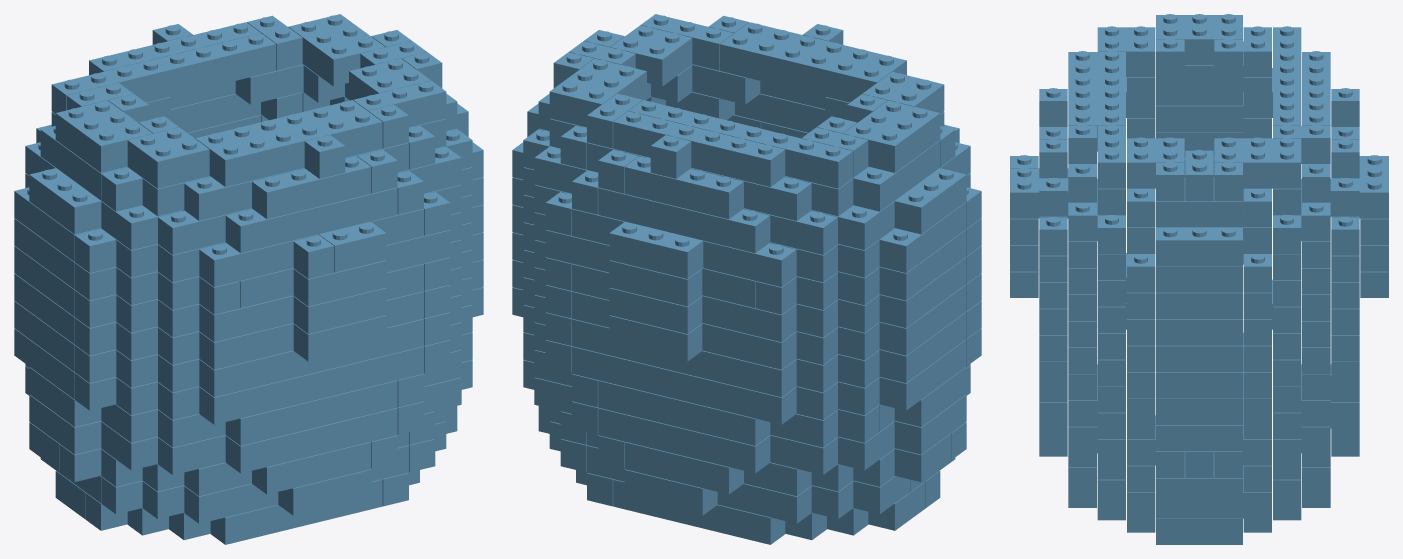
File: 188_mug_L3.glb
3 renders of one model, left to right at view 1: azimuth 30°, elevation 25°; view 2: azimuth 150°, elevation 25°; view 3: azimuth 270°, elevation 25°, orthographic. The views are drawn at different scales.
Bounding box in the file's own units: 14.98 × 14.13 × 12.98.
